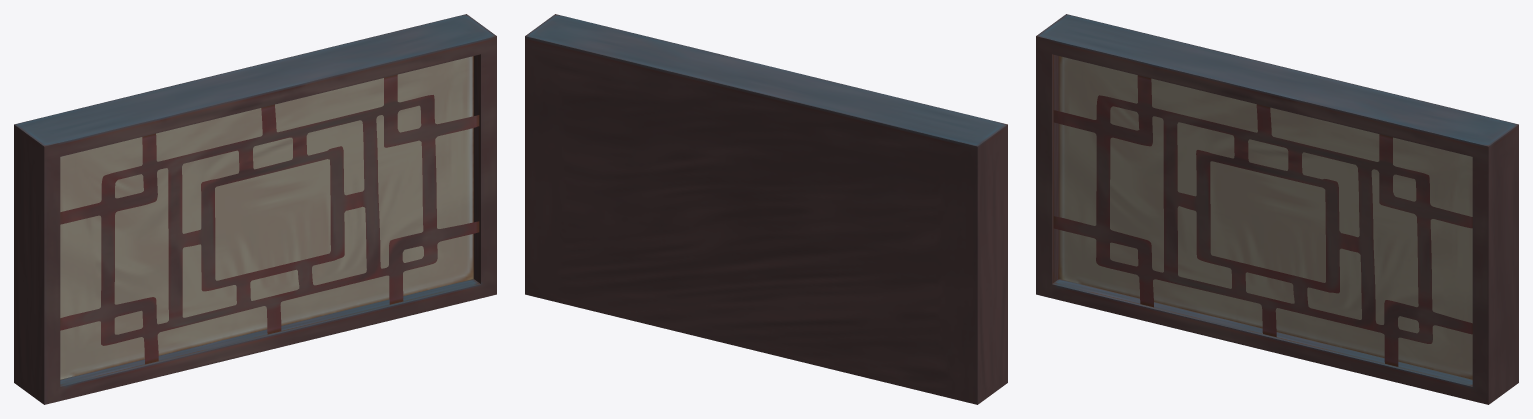
The model's file is ImperialWindow_A.fbx.
3 renders of one model, left to right at view 1: azimuth 30°, elevation 25°; view 2: azimuth 150°, elevation 25°; view 3: azimuth 330°, elevation 25°, orthographic.
Parts seen in each view (by area): view 1: ImperialWindow_A; view 2: ImperialWindow_A; view 3: ImperialWindow_A.
Part boxes in pixels (bbox=[...]): ImperialWindow_A: bbox=[14, 14, 496, 404]; ImperialWindow_A: bbox=[525, 14, 1007, 404]; ImperialWindow_A: bbox=[1036, 14, 1518, 404].
Size of the model in its own units: 367 by 200 by 42.51.
